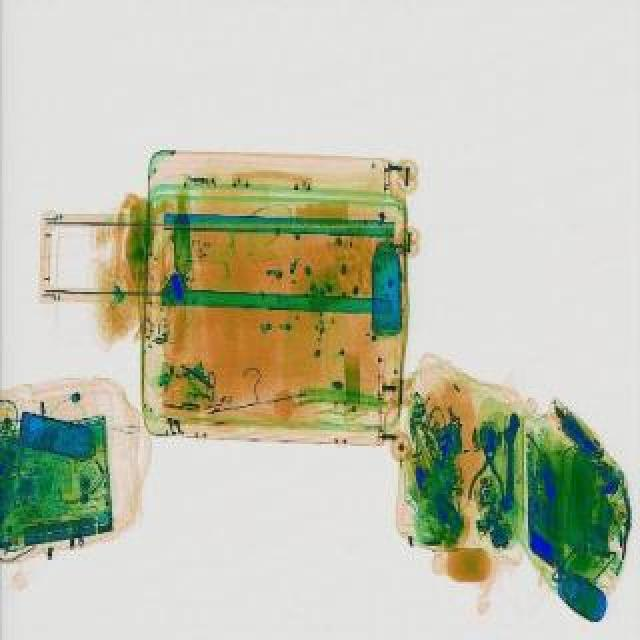wrench: (468, 430, 512, 506)
